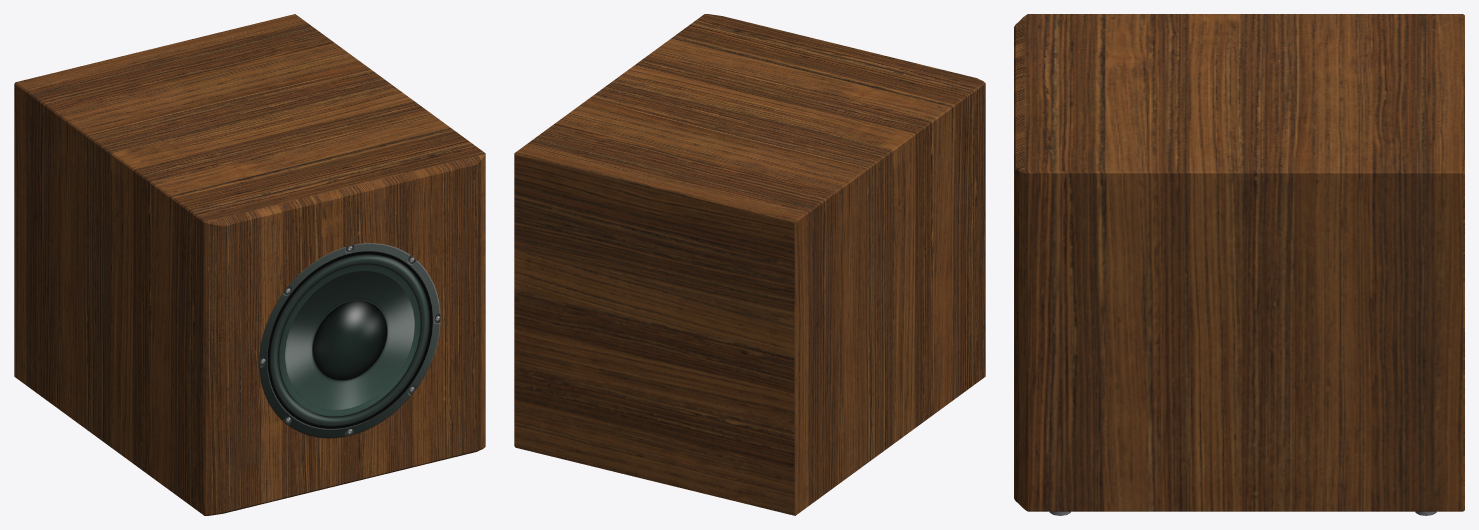
Rendered from sound3a.FBX.
The picture shows the model from 3 angles, left to right: view 1: azimuth 30°, elevation 25°; view 2: azimuth 150°, elevation 25°; view 3: azimuth 270°, elevation 25°; orthographic projection. The views are drawn at different scales.
Parts seen in each view (by area): view 1: sound3a; view 2: sound3a; view 3: sound3a.
Boxes of the visible parts, box(x1,y1,x2,y2) form: sound3a: box(14, 14, 485, 515); sound3a: box(514, 14, 985, 515); sound3a: box(1014, 14, 1464, 515).
Bounding box in the file's own units: 0.445 × 0.5346 × 0.4613.
